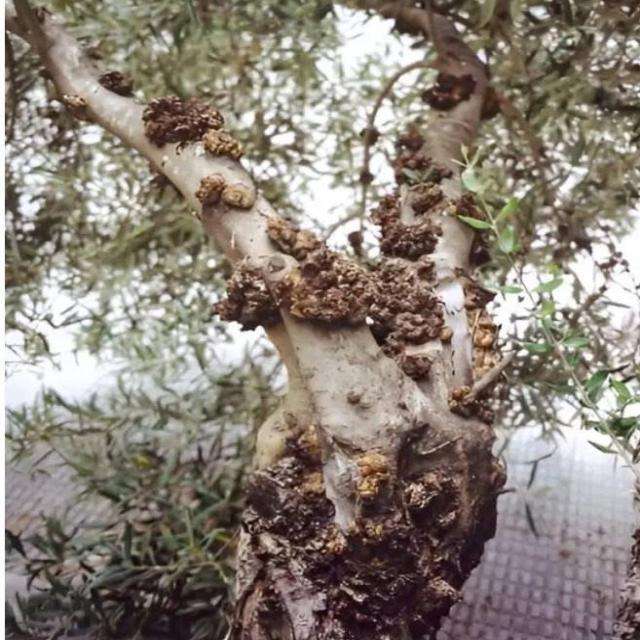Tuberculosis: (214, 217, 450, 382), (371, 130, 451, 256), (144, 96, 242, 161), (196, 174, 256, 210), (100, 70, 134, 98)
